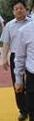boots: (18, 111, 27, 120), (0, 114, 7, 121)
hard-hat: (0, 58, 8, 72)
